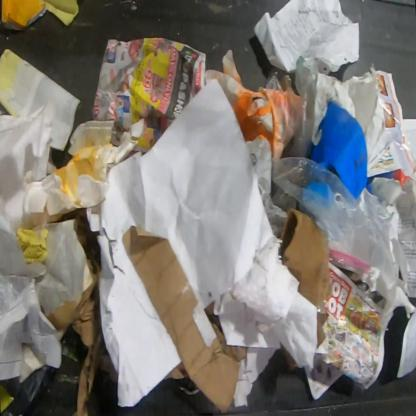cardboard: (122, 224, 247, 414), (47, 208, 119, 416)
rigid_plastic: (25, 119, 144, 214)
soft_plastic: (271, 156, 384, 273), (286, 55, 318, 160), (264, 65, 295, 94)
